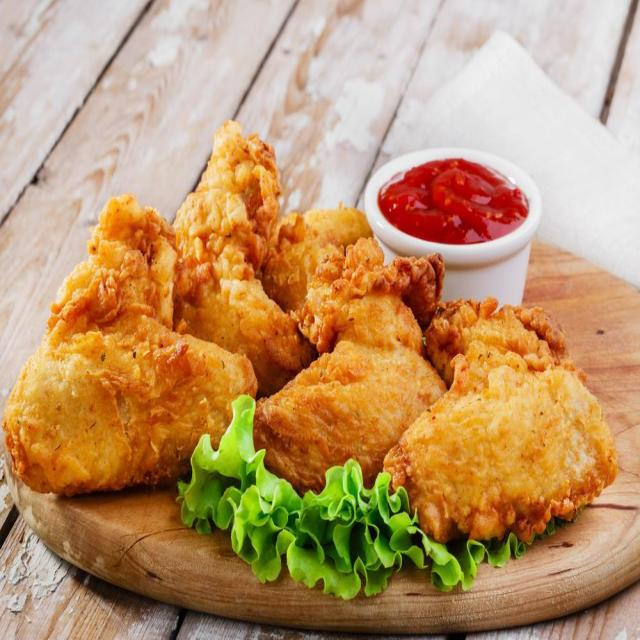Chicken -Fried Chicken-: (0, 191, 257, 493)
